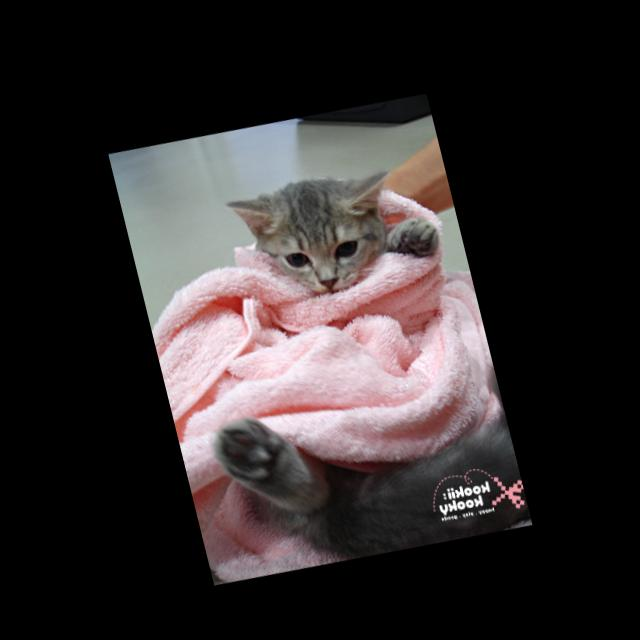animals: (225, 157, 414, 306)
